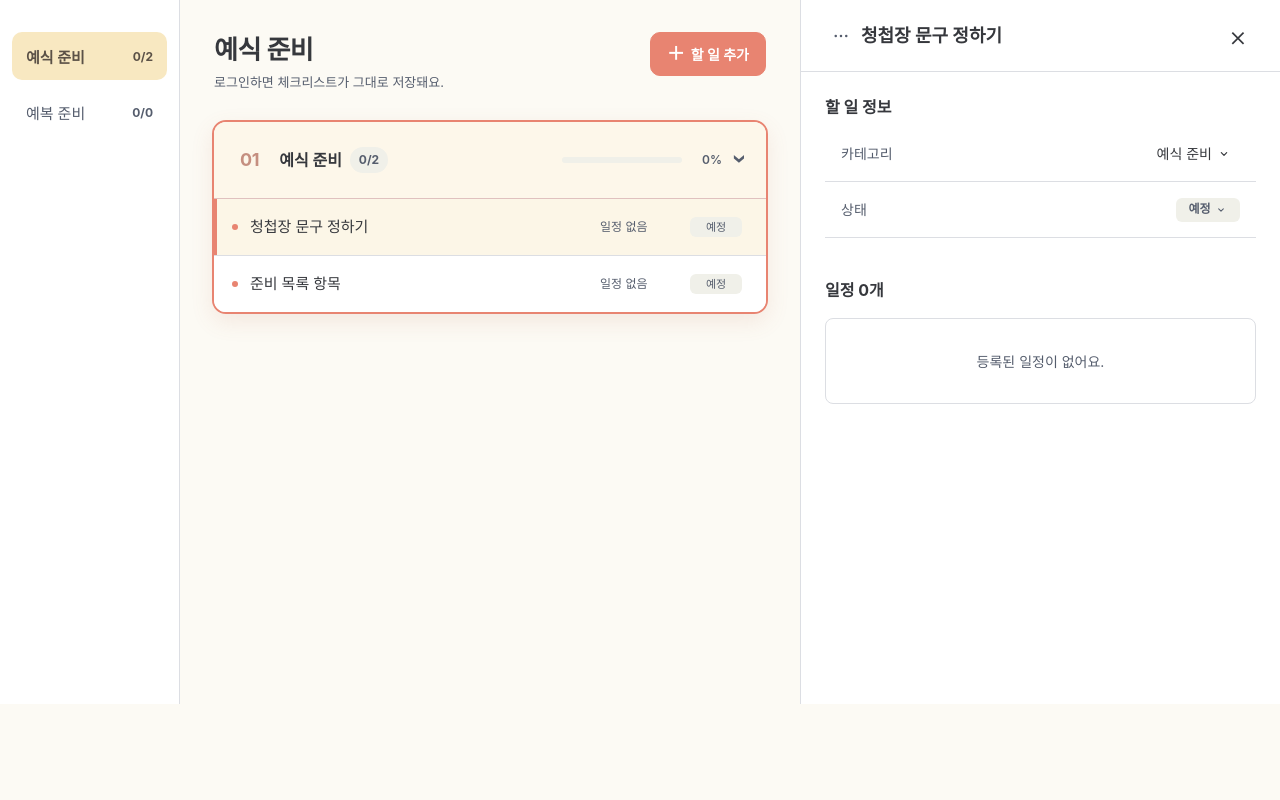
it: Checklist 할 일 편집 › 완료 확인 dialog에서 함께 완료를 선택하면 완료 상태를 반영한다
The image size is (1280, 800).
Click the button with aria-label "상태 변경, 현재 예정". click: click(1208, 210)
box: [1176,198,1240,222]
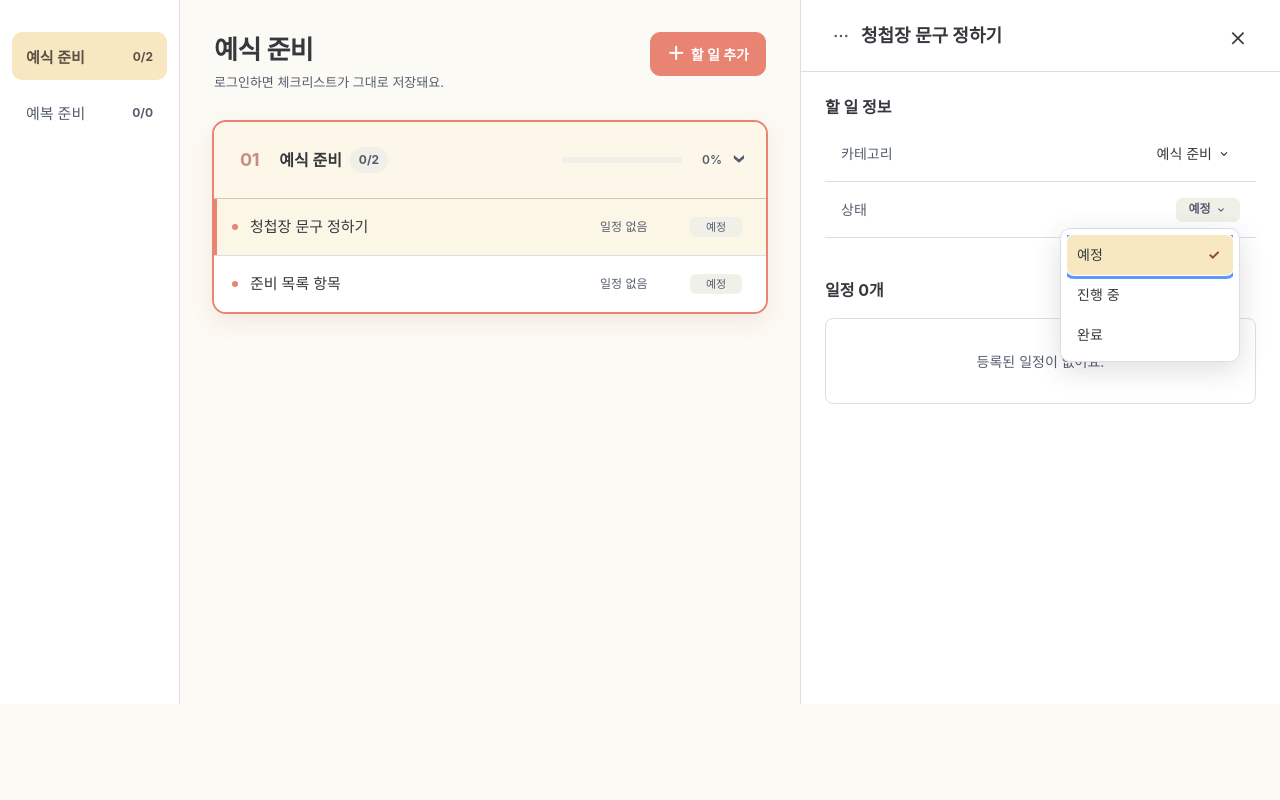
Click the option "완료". click: click(1150, 335)
box: [1067,315,1233,355]
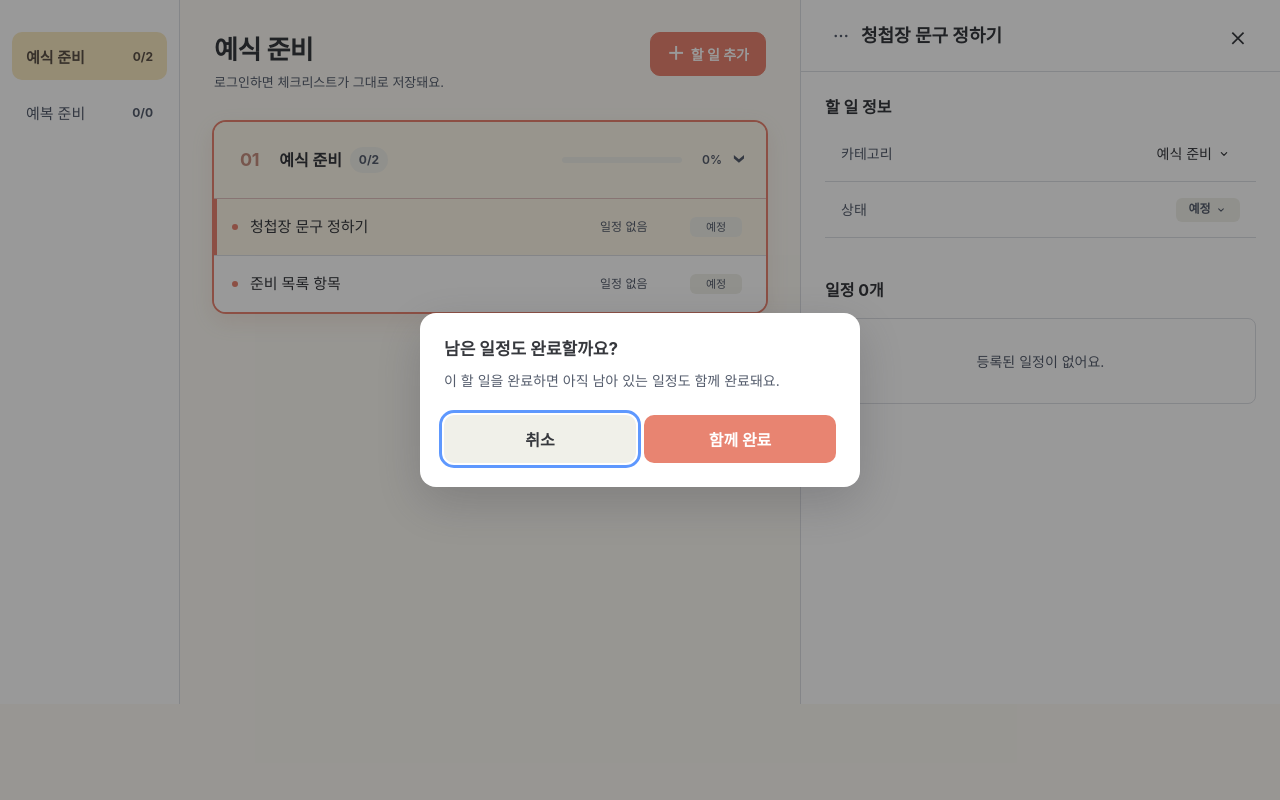
Click the button "함께 완료". click: click(740, 439)
box: [644,415,836,463]
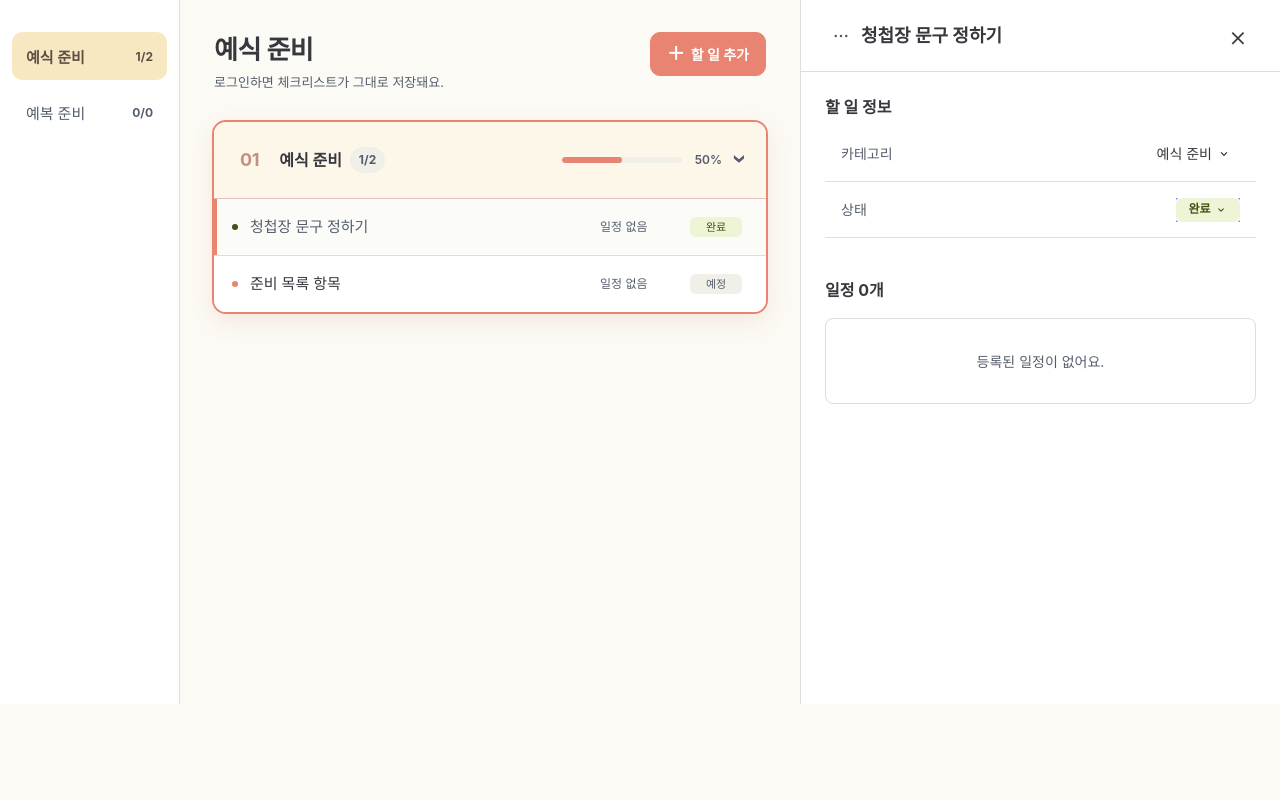
Now the button with aria-label "상태 변경, 현재 완료" is shown, box [1176,198,1240,222]
Now the dialog is gone
